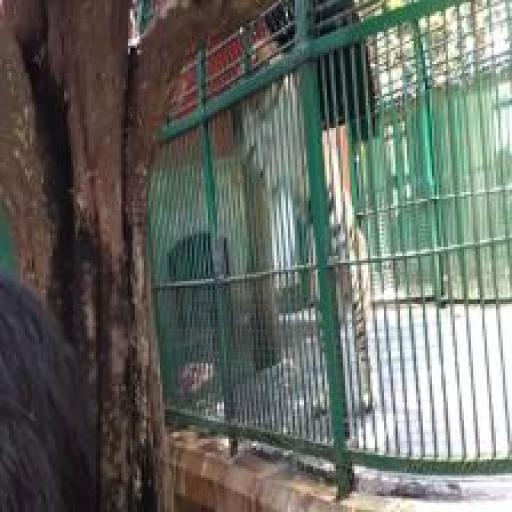Tiger: (236, 43, 386, 438)
